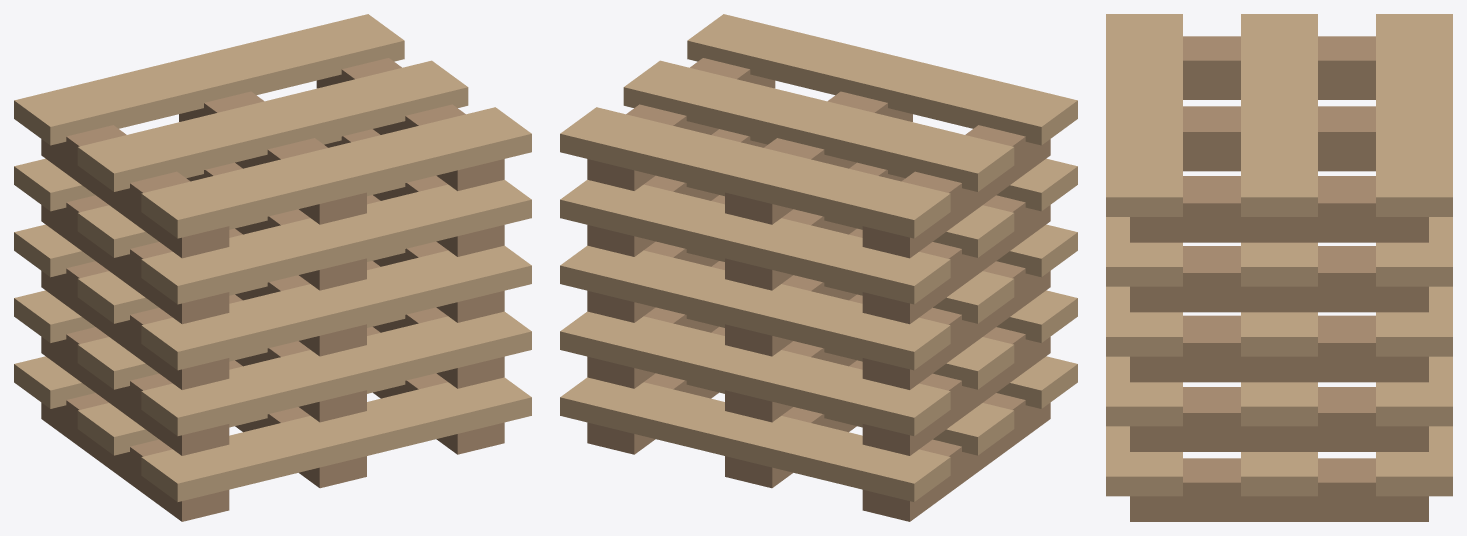
Rendered from pallet_stack_03.glb.
3 views of the same model, side by side, from view 1: azimuth 30°, elevation 25°; view 2: azimuth 150°, elevation 25°; view 3: azimuth 270°, elevation 25° (orthographic). The views are drawn at different scales.
Parts seen in each view (by area): view 1: slat4_2, slat4_1, slat4_0, slat1_2, slat3_2, slat0_2, slat2_2, block4_-0.35, block1_-0.35, block3_-0.35, block2_-0.35, block0_-0.35 (+18 smaller); view 2: slat4_0, slat4_1, slat4_2, slat1_0, slat3_0, slat0_0, slat2_0, block4_-0.35, block1_-0.35, block3_-0.35, block2_-0.35, block0_-0.35 (+18 smaller); view 3: slat4_0, slat4_1, slat4_2, block2_0.35, block3_0.35, block0_0.35, block1_0.35, block4_0.35, block4_0, block4_-0.35, slat0_0, slat0_2 (+10 smaller).
Part boxes in pixels (<box>): slat4_2: <box>141,107,531,238</box>; slat4_1: <box>77,60,468,191</box>; slat4_0: <box>14,14,404,145</box>; slat1_2: <box>141,311,531,436</box>; slat3_2: <box>141,180,531,304</box>; slat0_2: <box>141,377,531,501</box>; slat2_2: <box>141,245,531,370</box>; block4_-0.35: <box>41,125,229,258</box>; block1_-0.35: <box>41,327,229,455</box>; block3_-0.35: <box>41,195,229,324</box>; block2_-0.35: <box>41,261,229,389</box>; block0_-0.35: <box>41,393,229,521</box>; slat4_0: <box>560,107,950,238</box>; slat4_1: <box>623,60,1014,191</box>; slat4_2: <box>687,14,1077,145</box>; slat1_0: <box>560,311,950,436</box>; slat3_0: <box>560,180,950,304</box>; slat0_0: <box>560,377,950,501</box>; slat2_0: <box>560,245,950,370</box>; block4_-0.35: <box>862,125,1050,258</box>; block1_-0.35: <box>862,327,1050,455</box>; block3_-0.35: <box>862,195,1050,324</box>; block2_-0.35: <box>862,261,1050,389</box>; block0_-0.35: <box>862,393,1050,521</box>; slat4_0: <box>1376,14,1452,216</box>; slat4_1: <box>1241,14,1317,216</box>; slat4_2: <box>1106,14,1182,216</box>; block2_0.35: <box>1130,318,1428,382</box>; block3_0.35: <box>1130,248,1428,312</box>; block0_0.35: <box>1130,458,1428,521</box>; block1_0.35: <box>1130,388,1428,451</box>; block4_0.35: <box>1130,179,1428,242</box>; block4_0: <box>1183,107,1375,171</box>; block4_-0.35: <box>1183,36,1375,99</box>; slat0_0: <box>1376,426,1452,496</box>; slat0_2: <box>1106,426,1182,496</box>.
Size of the model in its own units: 0.9 by 0.7625 by 0.72.
